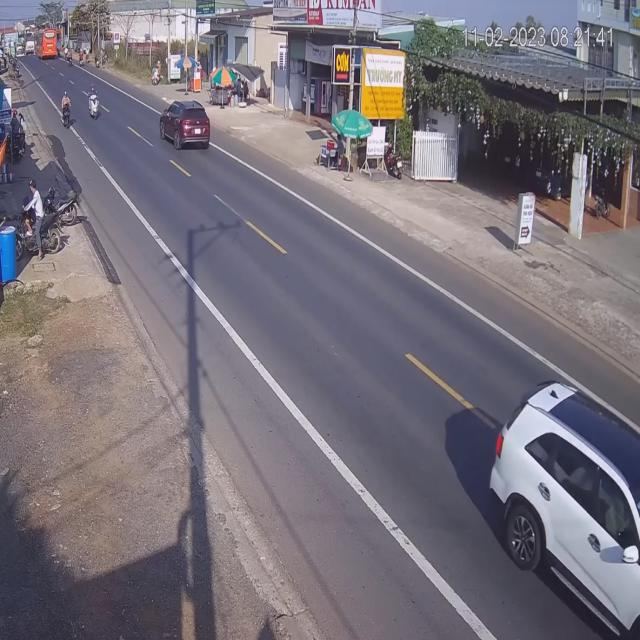bus: (38, 28, 58, 60)
car: (487, 379, 640, 640), (159, 100, 211, 151)
motorbike: (60, 91, 73, 129), (90, 90, 102, 122)
